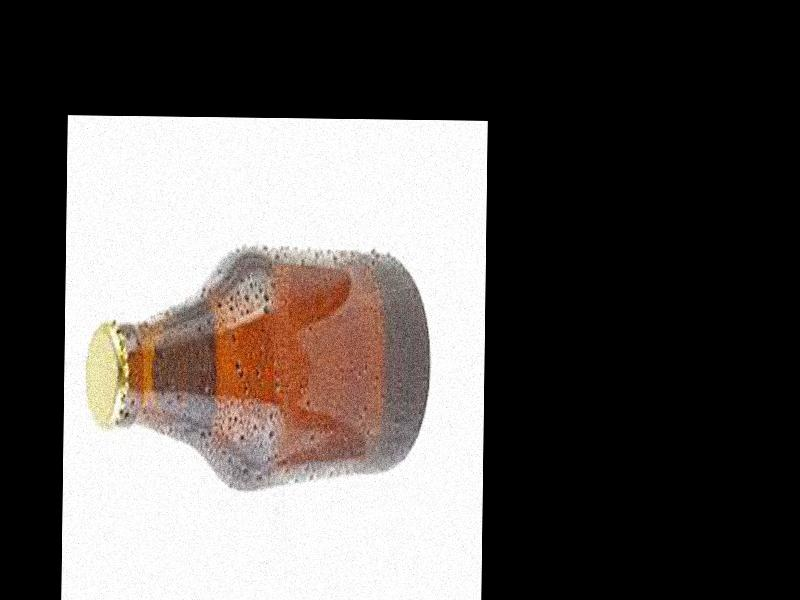Beer: (84, 250, 429, 475)
